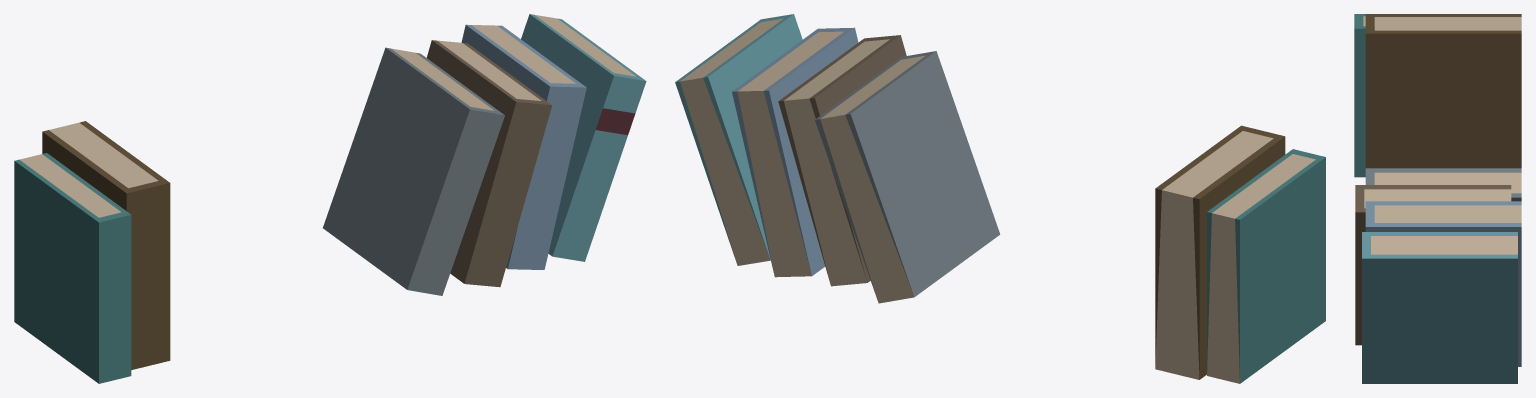
Rendered from SM_Prop_Book_Group_01.obj.
The picture shows the model from 3 angles, left to right: view 1: azimuth 30°, elevation 25°; view 2: azimuth 150°, elevation 25°; view 3: azimuth 270°, elevation 25°; orthographic projection. The views are drawn at different scales.
Visible parts, largest first — view 1: SM_Prop_Book_Group_01_0; view 2: SM_Prop_Book_Group_01_0; view 3: SM_Prop_Book_Group_01_0.
Boxes of the visible parts, x1,y1,x2,y2 form: SM_Prop_Book_Group_01_0: (14, 14, 646, 383); SM_Prop_Book_Group_01_0: (675, 14, 1325, 383); SM_Prop_Book_Group_01_0: (1354, 14, 1521, 383).
Size of the model in its own units: 0.9059 by 0.2873 by 0.2576.
1 material, 1 textured.
